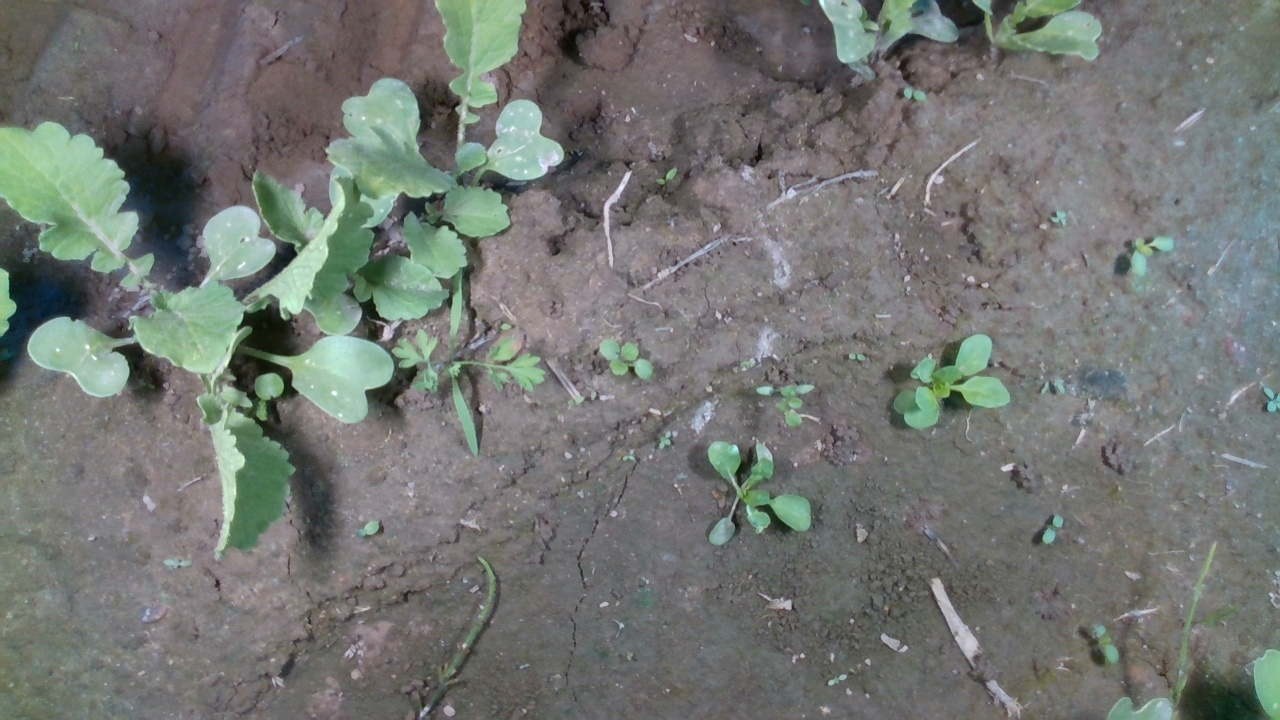weed: (596, 338, 655, 380), (1091, 622, 1120, 665), (1039, 513, 1064, 544), (654, 166, 678, 187), (903, 86, 929, 103), (161, 555, 193, 567), (657, 430, 672, 452), (1049, 209, 1067, 226), (847, 350, 869, 362)
